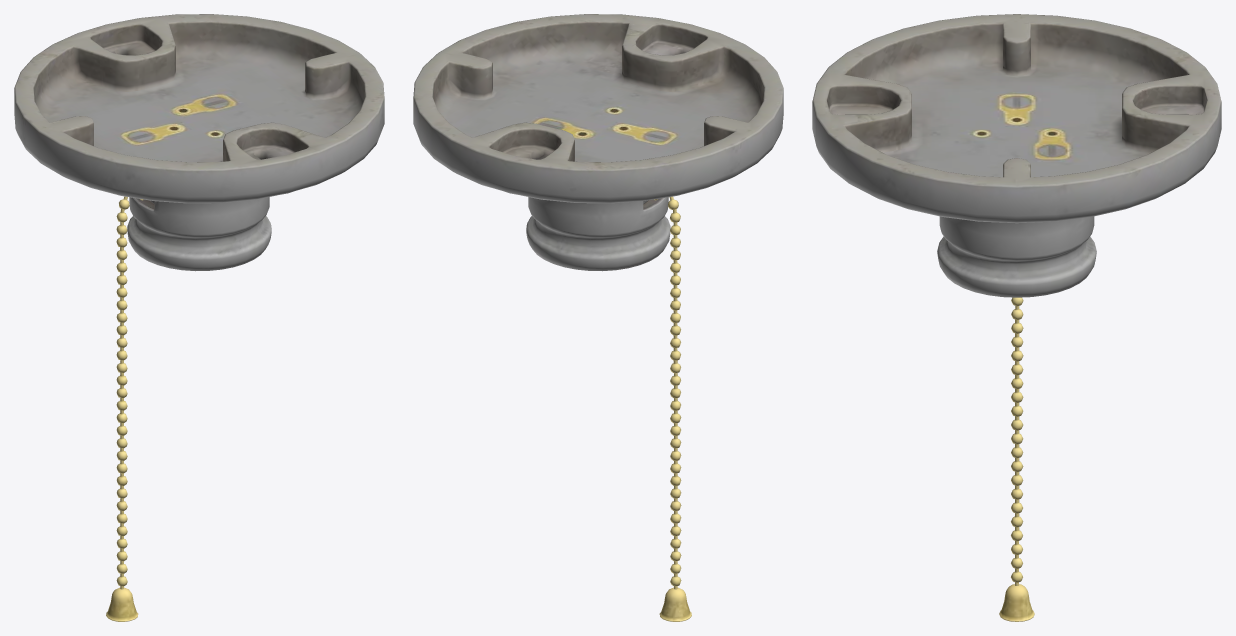
The model's file is pull_chain_light_socket.glb.
3 renders of one model, left to right at view 1: azimuth 30°, elevation 25°; view 2: azimuth 150°, elevation 25°; view 3: azimuth 270°, elevation 25°, orthographic. The views are drawn at different scales.
Visible parts, largest first — view 1: pull_chain_light_socket; view 2: pull_chain_light_socket; view 3: pull_chain_light_socket.
Boxes of the visible parts, x1=… form: pull_chain_light_socket: x1=14, y1=14, x2=384, y2=621; pull_chain_light_socket: x1=413, y1=14, x2=783, y2=621; pull_chain_light_socket: x1=812, y1=14, x2=1221, y2=621.
Size of the model in its own units: 0.1103 by 0.1654 by 0.1103.
Materials: 1 (1 with a texture image).
